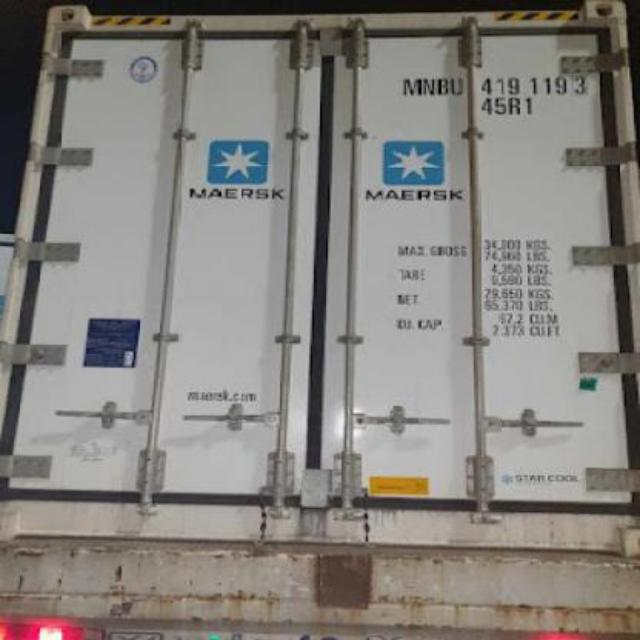1: (524, 68, 540, 95), (540, 67, 554, 96), (494, 71, 506, 95)
3: (570, 71, 592, 95)
4: (476, 74, 494, 96)
9: (552, 69, 570, 101), (506, 73, 522, 97)
B: (438, 70, 448, 100)
M: (392, 65, 420, 97)
N: (422, 70, 436, 100)
U: (448, 74, 464, 102)
